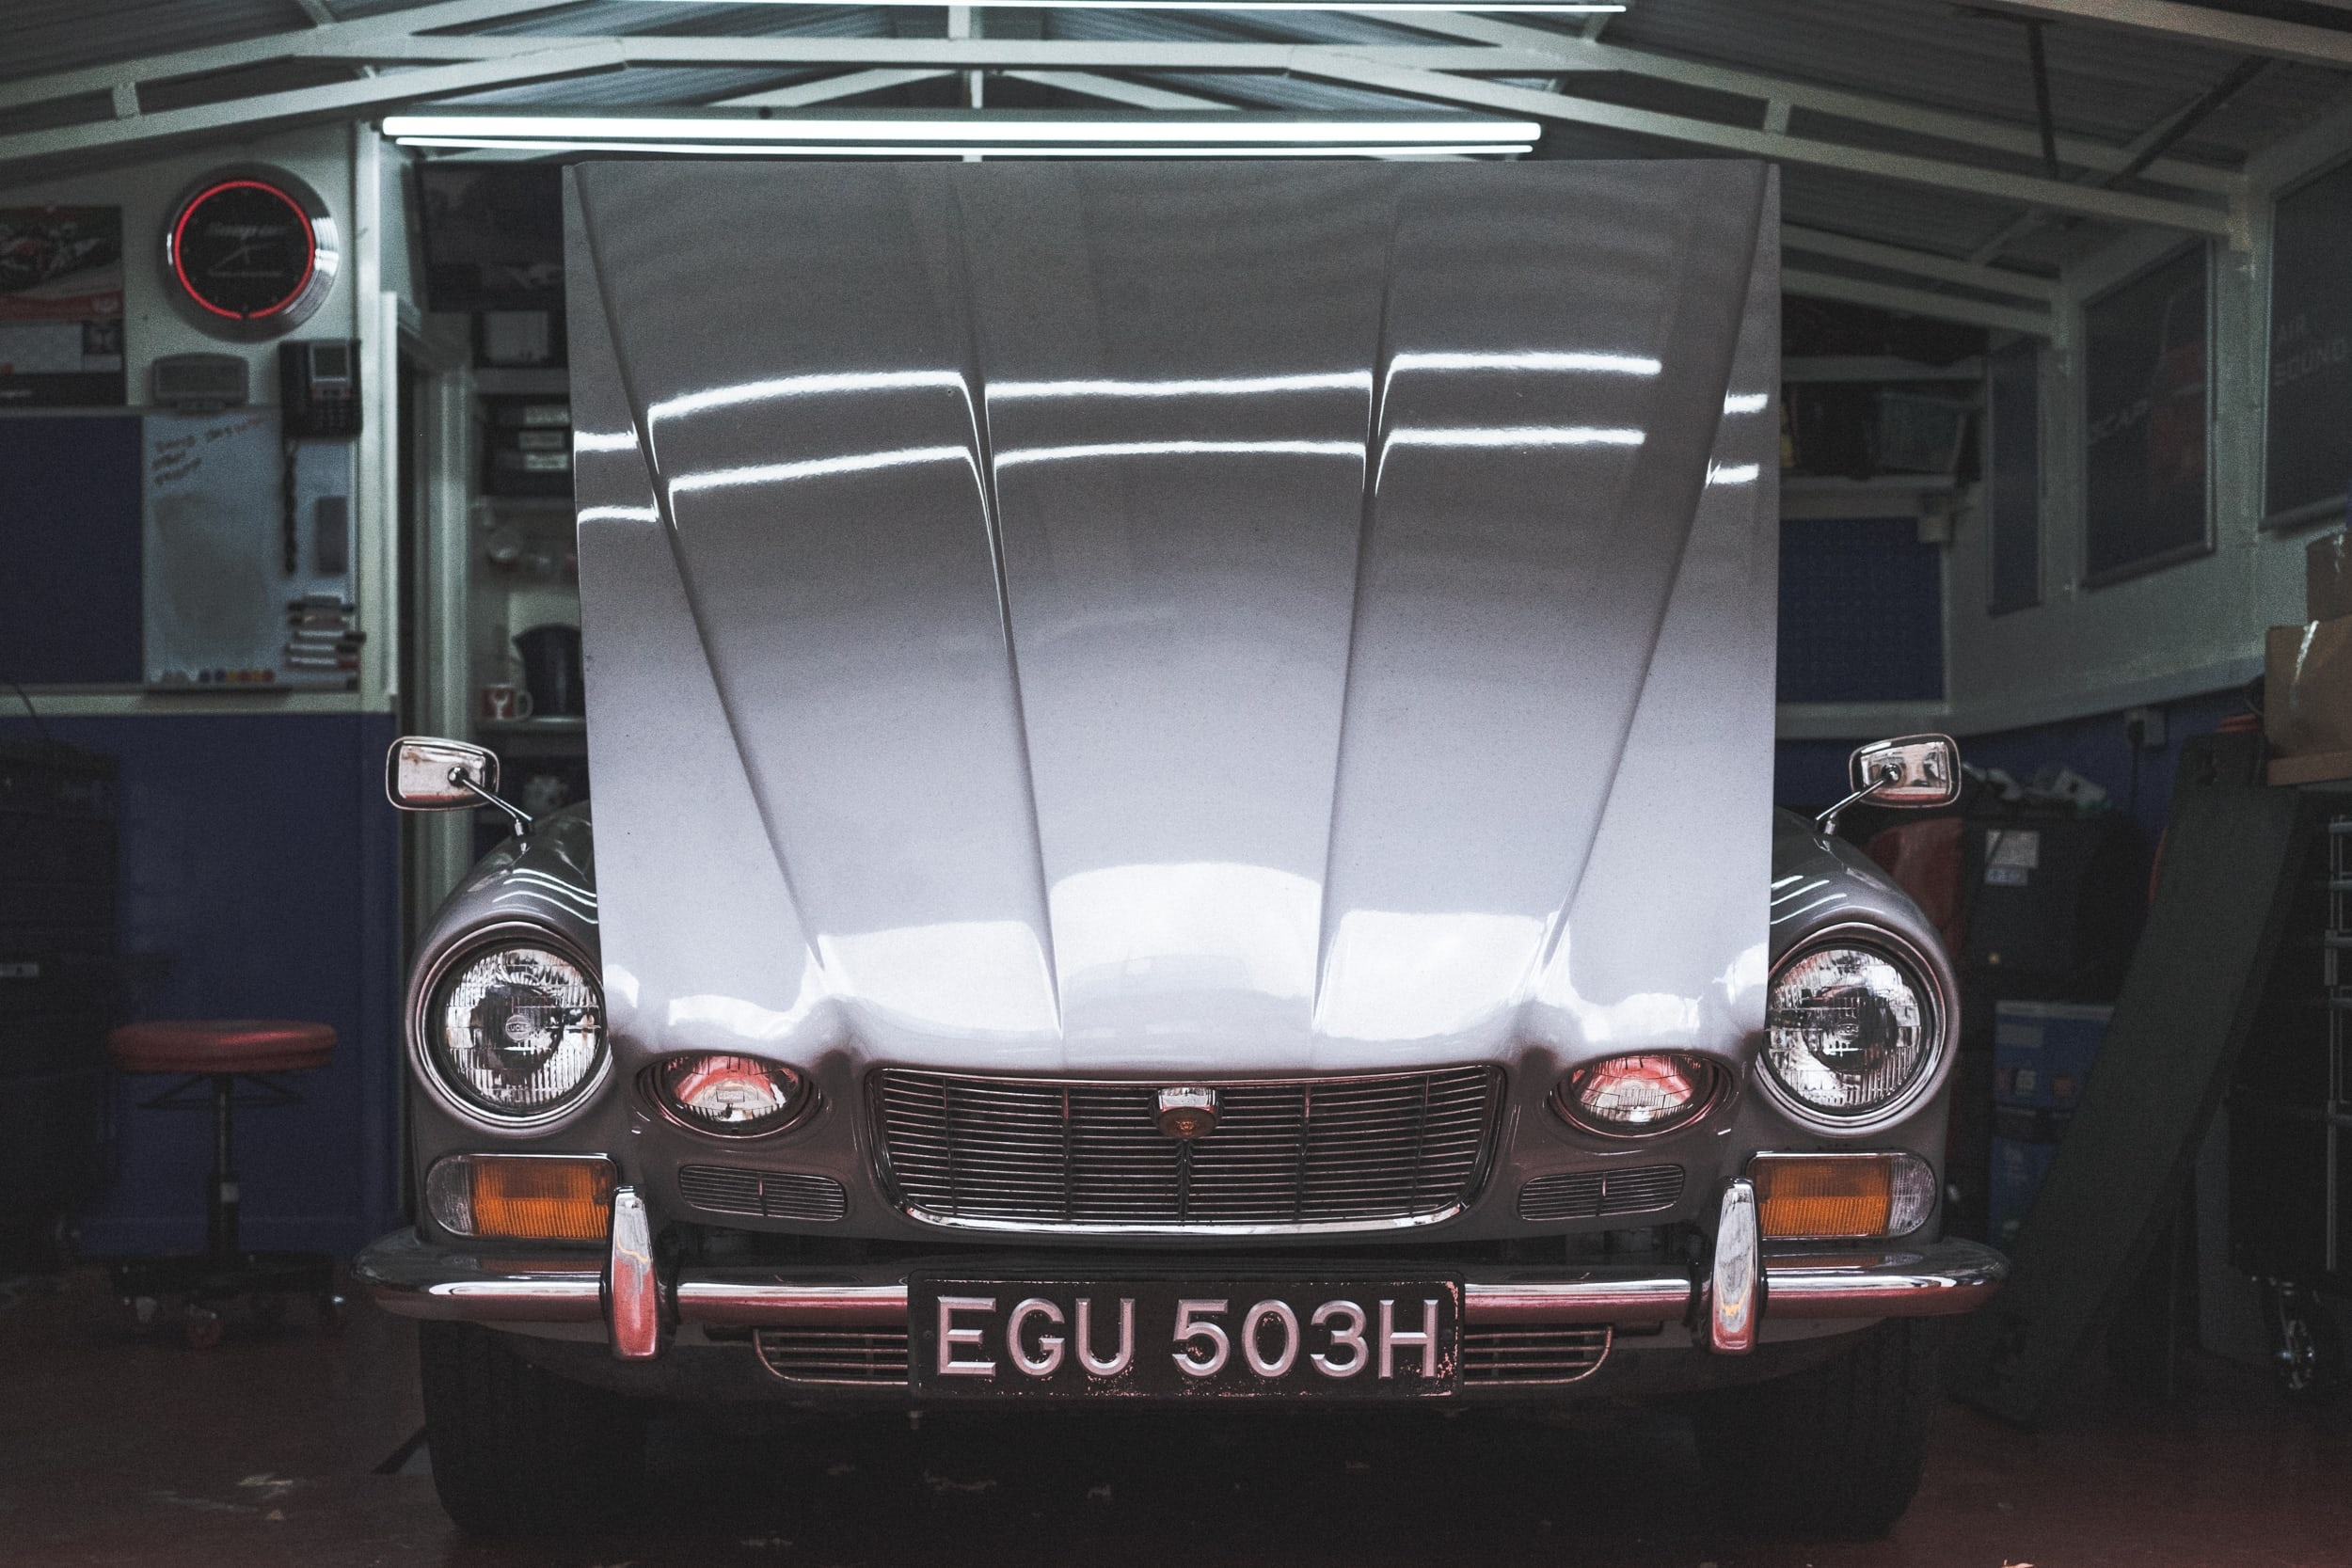plaka: (904, 1266, 1471, 1407)
